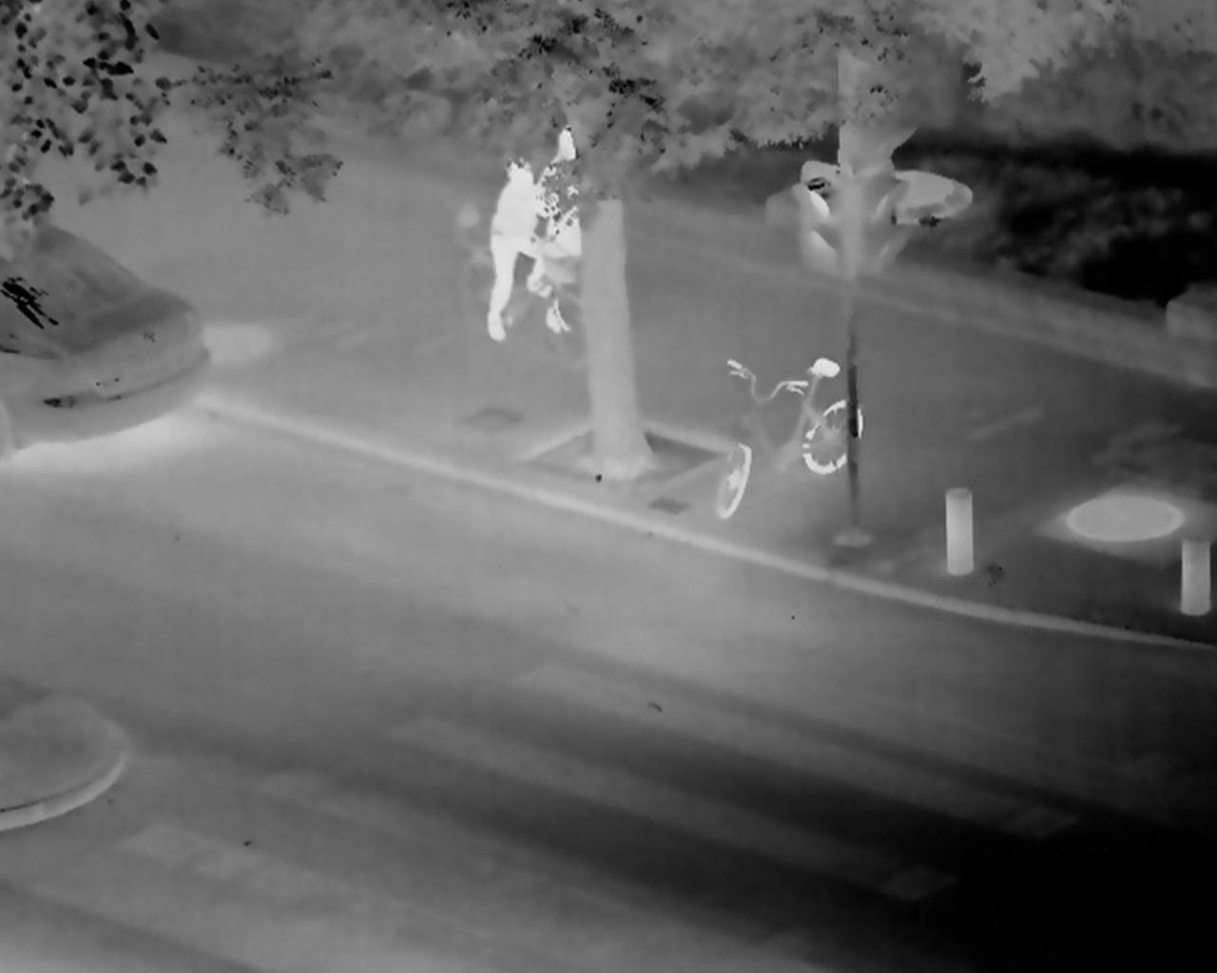person: (487, 158, 548, 340), (548, 123, 597, 343)
